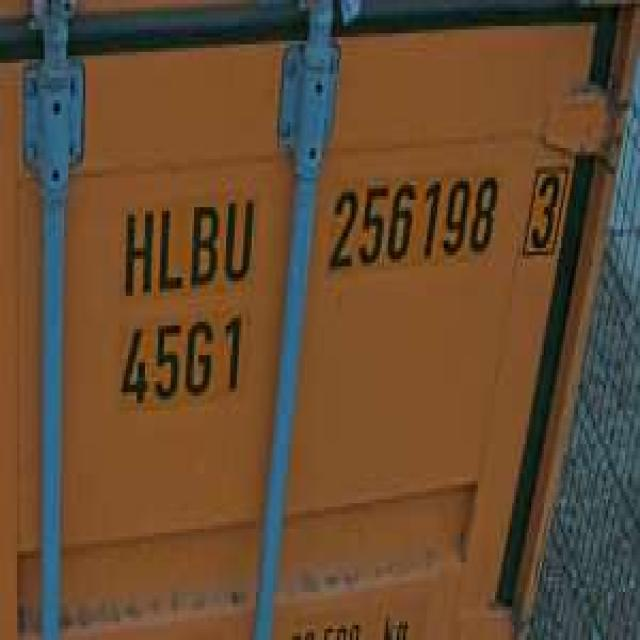dv: (518, 152, 572, 266)
owner: (115, 181, 258, 296)
serial: (320, 163, 501, 270)
size: (111, 307, 250, 411)
